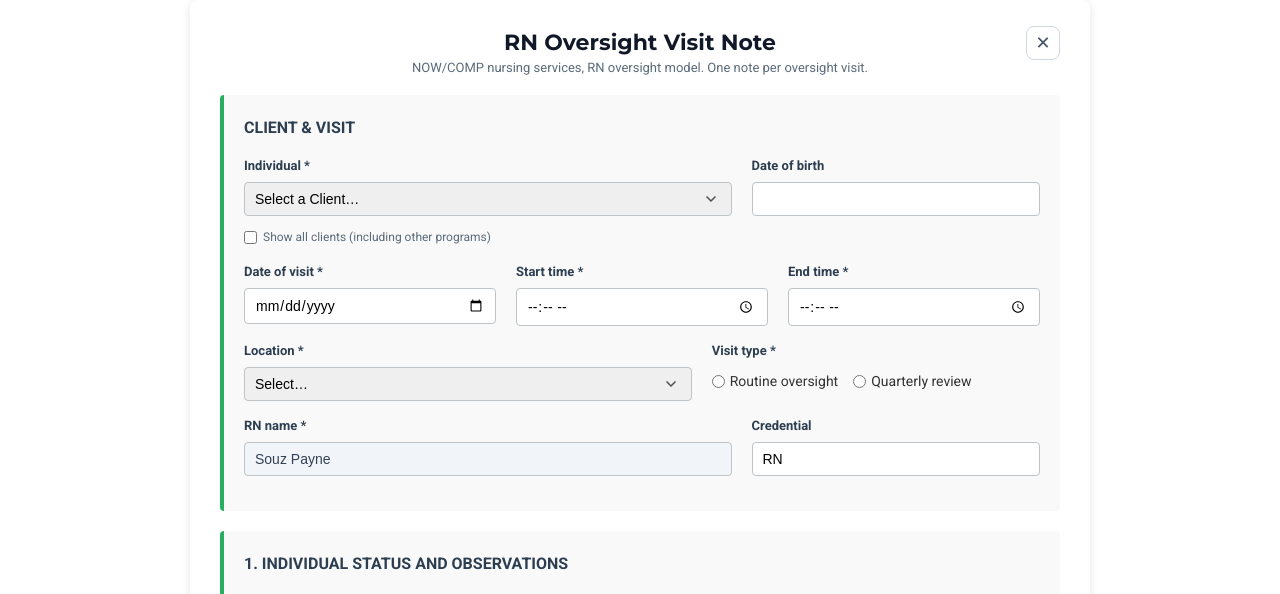
Test: OversightNotePage — documented vs. billable time › never locks End time: the nurse records the real times, and the month bills at the authorization
Select "Neal Kelly" in the dropdown labelled "Individual *": (488, 199) [244, 182, 732, 216]
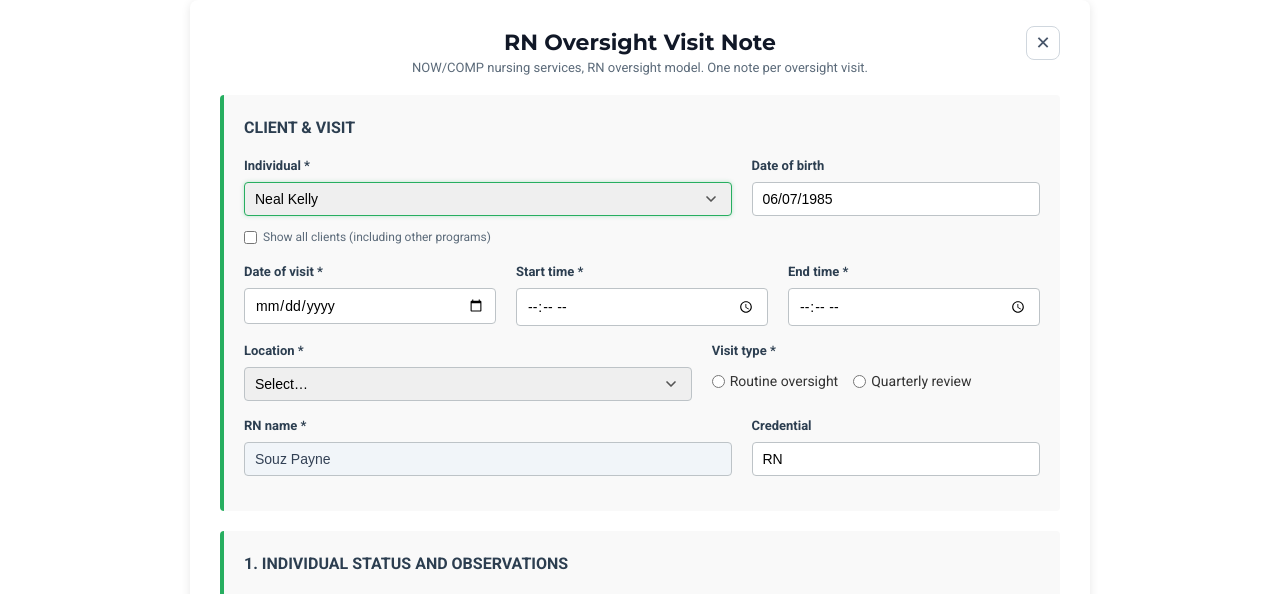
In the date field labelled "Date of visit *": (370, 306) [244, 288, 496, 324], type "2026-09-28"
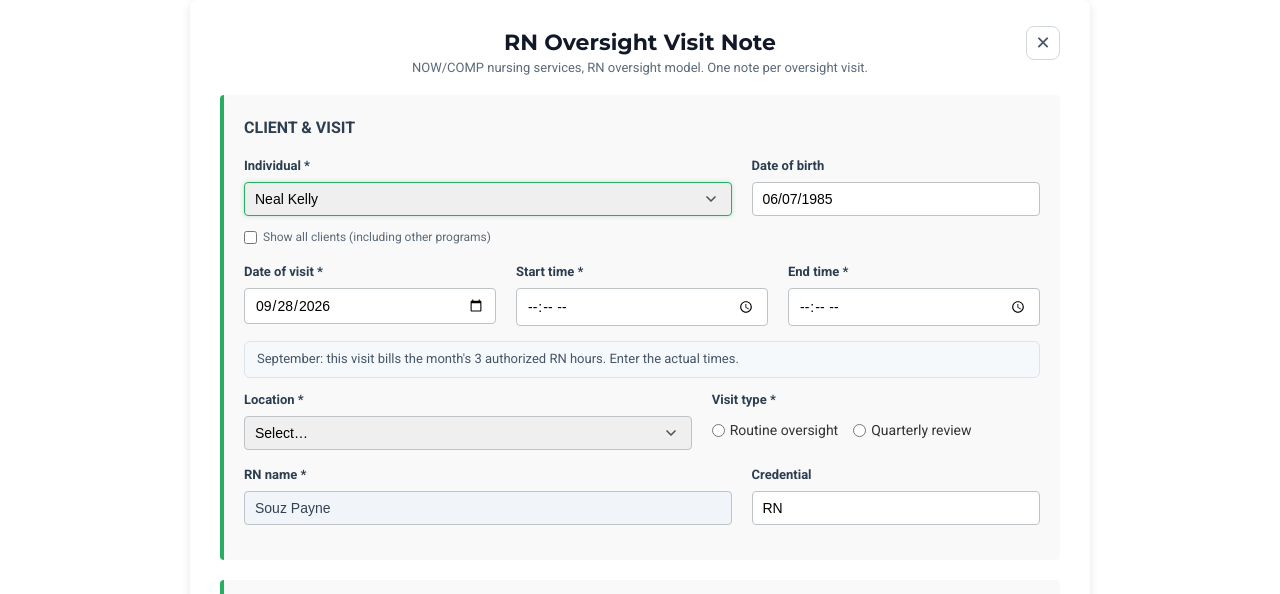
Check: the text "September: this visit bills the month's 3 authorized RN hours. Enter the actual times." is shown, box [257, 351, 739, 366]
In the time field with id "ov_timeIn": (642, 307) [516, 288, 768, 326], type "17:00"
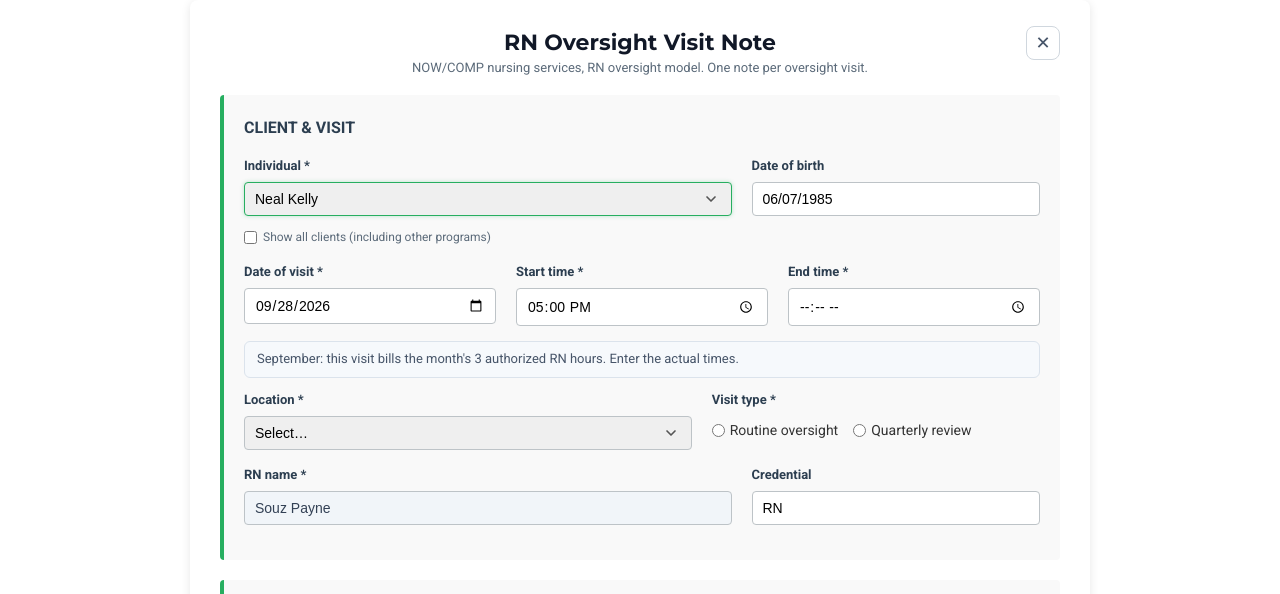
In the time field with id "ov_timeOut": (914, 307) [788, 288, 1040, 326], type "19:30"
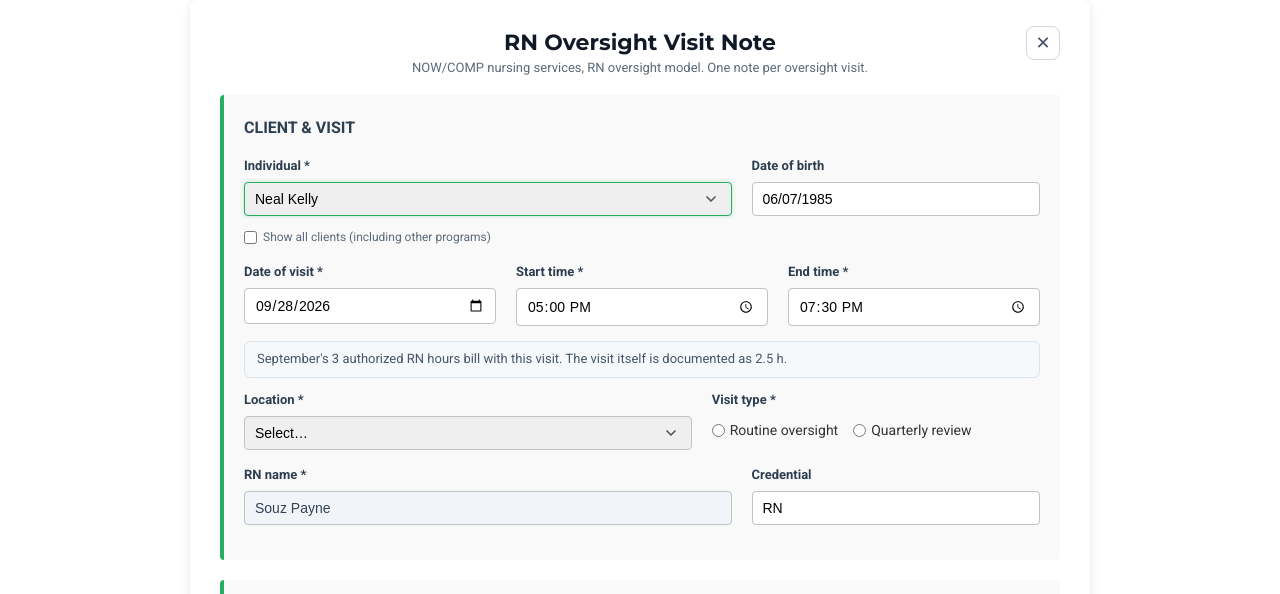
Check: the text "September's 3 authorized RN hours bill with this visit. The visit itself is documented as 2.5 h." is shown, box [257, 351, 787, 366]
